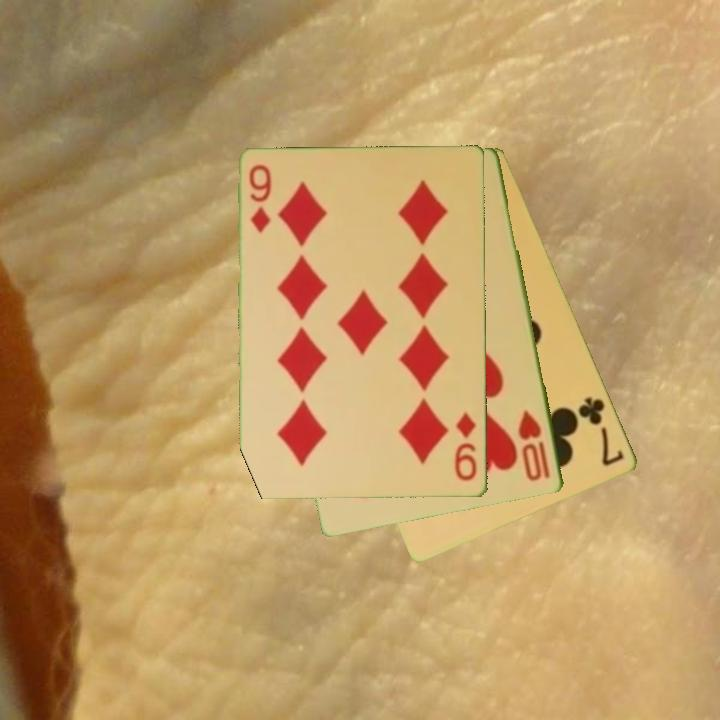10h: (515, 407, 554, 485)
7c: (575, 393, 628, 469)
9d: (246, 161, 275, 236), (452, 409, 480, 484)
